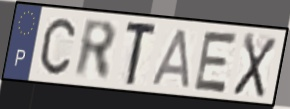A: (149, 27, 191, 91)
C: (38, 16, 77, 77)
E: (190, 29, 241, 96)
R: (72, 17, 118, 83)
T: (123, 21, 160, 88)
X: (230, 31, 279, 101)
